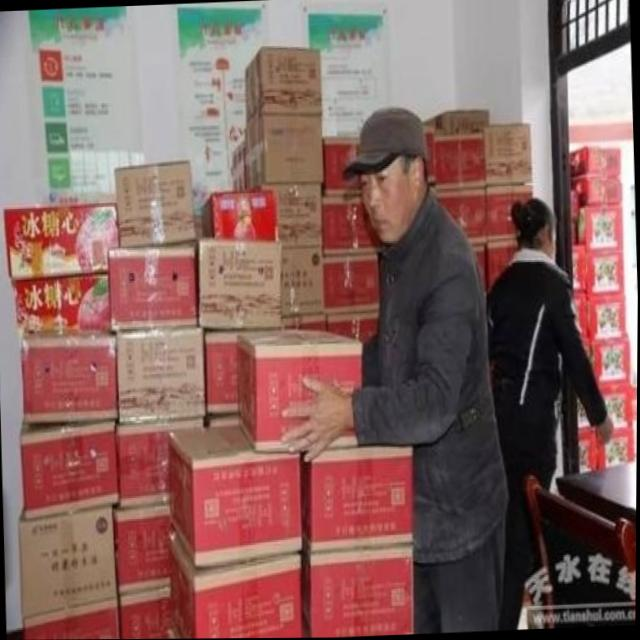box: (170, 426, 301, 565), (167, 530, 302, 639), (237, 330, 361, 448), (301, 447, 414, 554), (19, 506, 119, 616), (302, 548, 414, 635), (20, 419, 119, 513), (3, 204, 120, 280), (22, 330, 117, 422), (116, 327, 206, 424), (117, 416, 204, 507), (109, 243, 198, 331), (198, 236, 281, 329), (114, 161, 196, 245), (13, 271, 112, 339), (244, 49, 322, 123), (245, 113, 323, 187), (114, 501, 173, 596), (247, 182, 322, 247), (198, 190, 276, 240), (321, 198, 384, 258), (23, 601, 119, 640), (475, 124, 533, 183), (279, 247, 323, 315), (325, 259, 379, 313), (437, 186, 487, 244), (434, 133, 486, 188), (120, 588, 175, 639), (205, 330, 238, 414), (486, 185, 534, 240), (323, 138, 362, 197), (326, 313, 378, 348)
